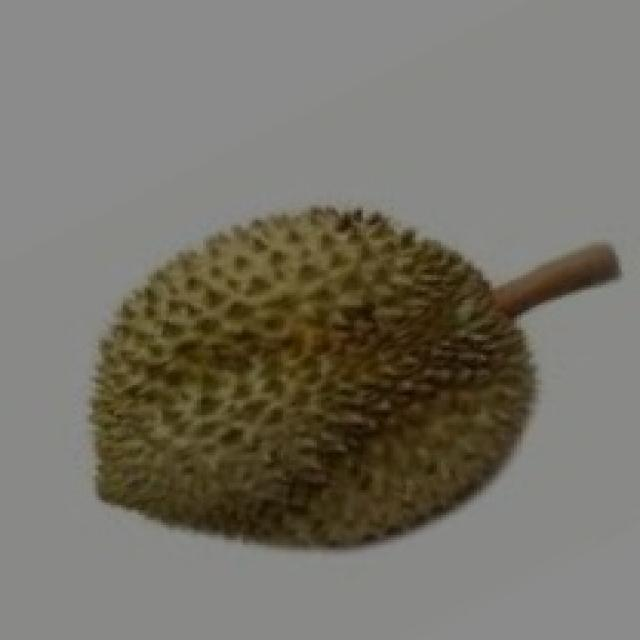fruit: (43, 182, 397, 592)
